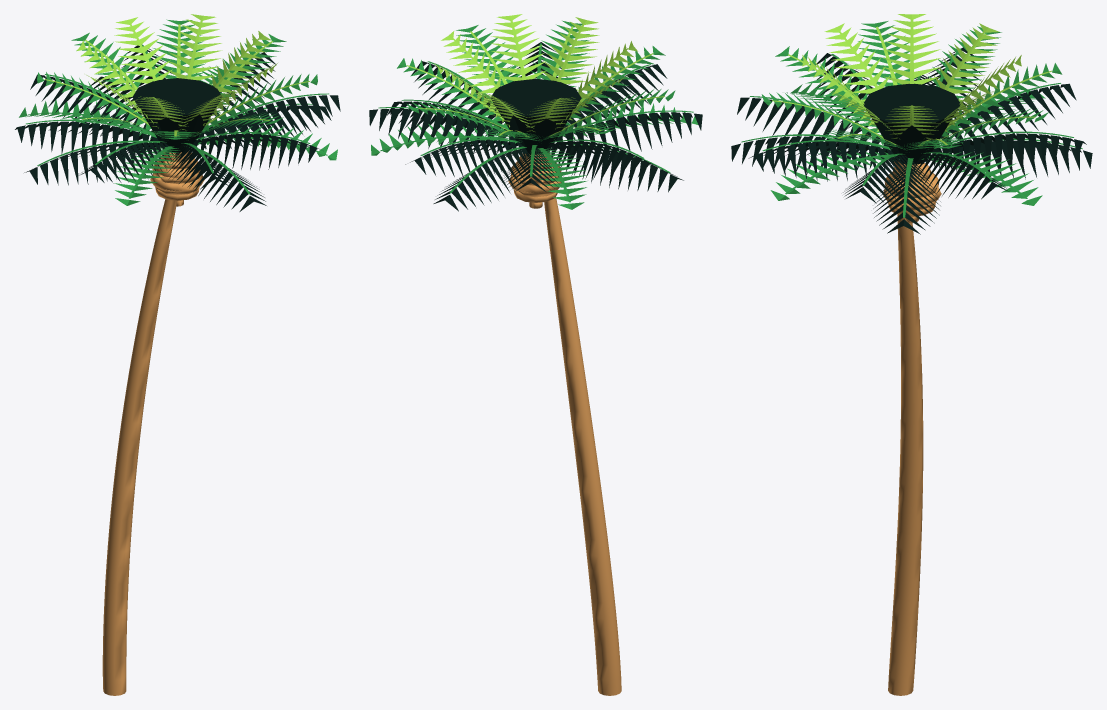
File: nagai_palm_tall.glb
3 views of the same model, side by side, from view 1: azimuth 30°, elevation 25°; view 2: azimuth 150°, elevation 25°; view 3: azimuth 270°, elevation 25° (orthographic). The views are drawn at different scales.
Visible parts, largest first — view 1: PalmFronds, PalmTrunk; view 2: PalmFronds, PalmTrunk; view 3: PalmFronds, PalmTrunk.
Boxes of the visible parts, x1=… form: PalmFronds: x1=15, y1=14, x2=340, y2=211; PalmTrunk: x1=102, y1=151, x2=204, y2=695; PalmFronds: x1=369, y1=14, x2=702, y2=211; PalmTrunk: x1=508, y1=152, x2=621, y2=695; PalmFronds: x1=731, y1=14, x2=1092, y2=234; PalmTrunk: x1=883, y1=161, x2=941, y2=695.
Bounding box in the file's own units: 7.01 × 14.27 × 7.01.
